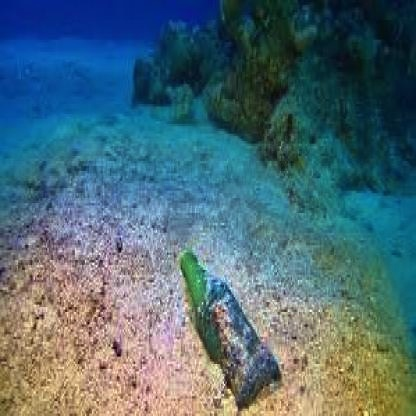gbottle: (181, 253, 281, 401)
